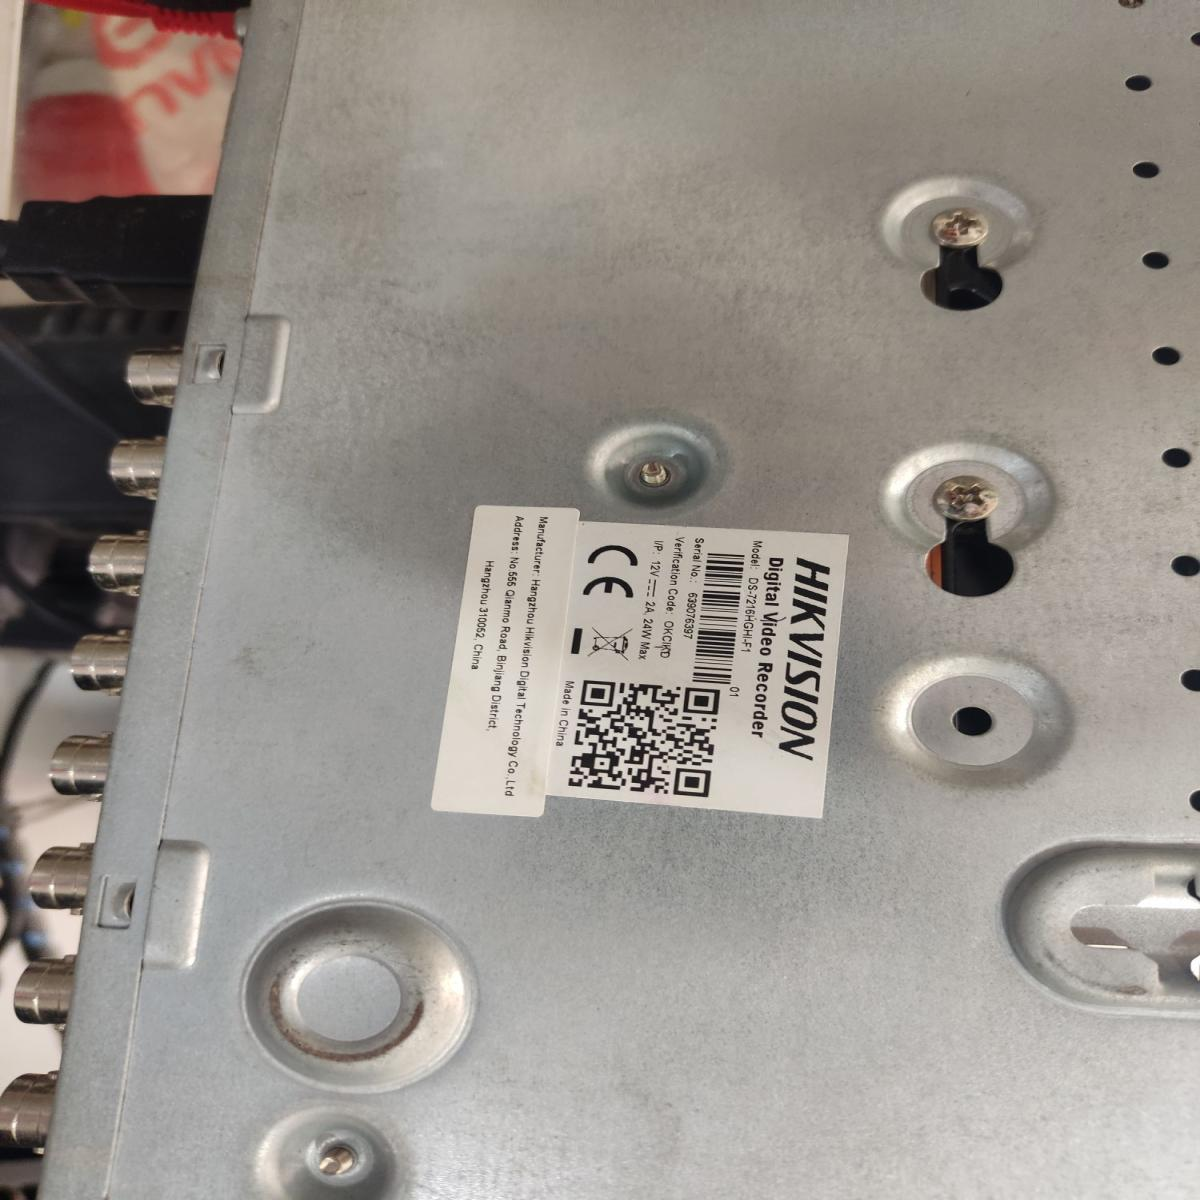Barcode: (690, 551, 748, 686)
Label: (552, 524, 845, 814)
